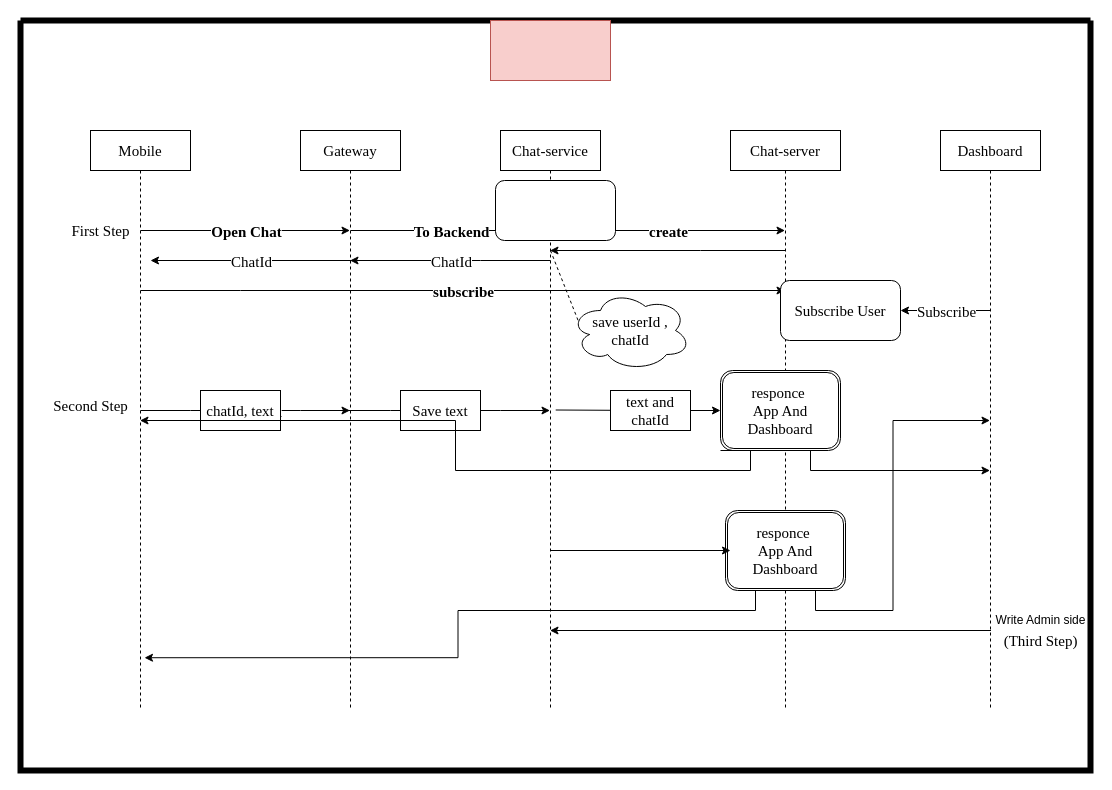
Some shapes in this 1112 by 790 pixel diagram are drawn without their labels. Here are the shapes that lost their labels. From the top down, the centre of each, then its label:
the point at 550,50: First Etap
the point at 555,210: Create ChatId
